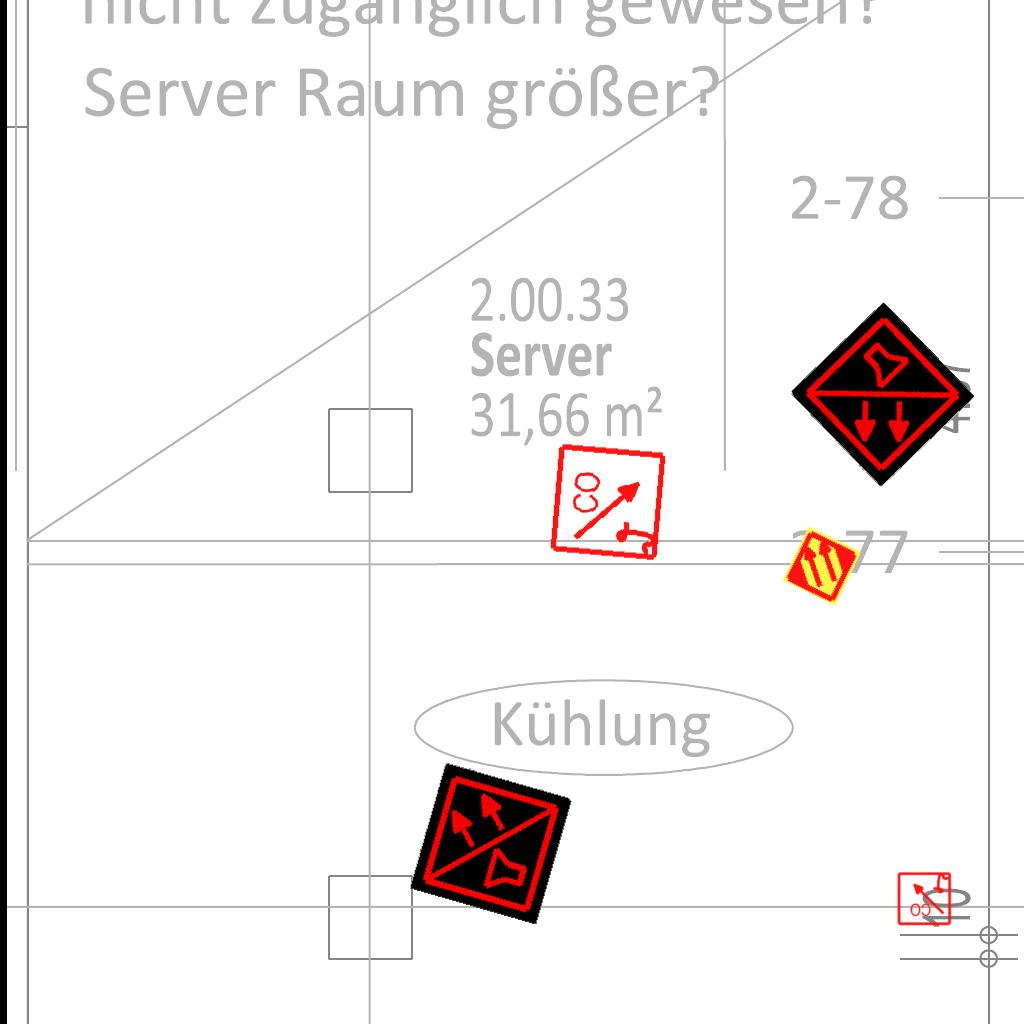ASR_Ansaugrauchmelder: (780, 524, 864, 608)
OKW_Multisensormelder_(Kombination_optischer_Rauch-Kahlenmonoxid_Waerme-Melder): (788, 301, 976, 489), (409, 761, 573, 925)
ROA_Rauchmelder_optisch_mit_Signalgeber_(Sockelsirene): (548, 440, 671, 563), (896, 870, 952, 926)
